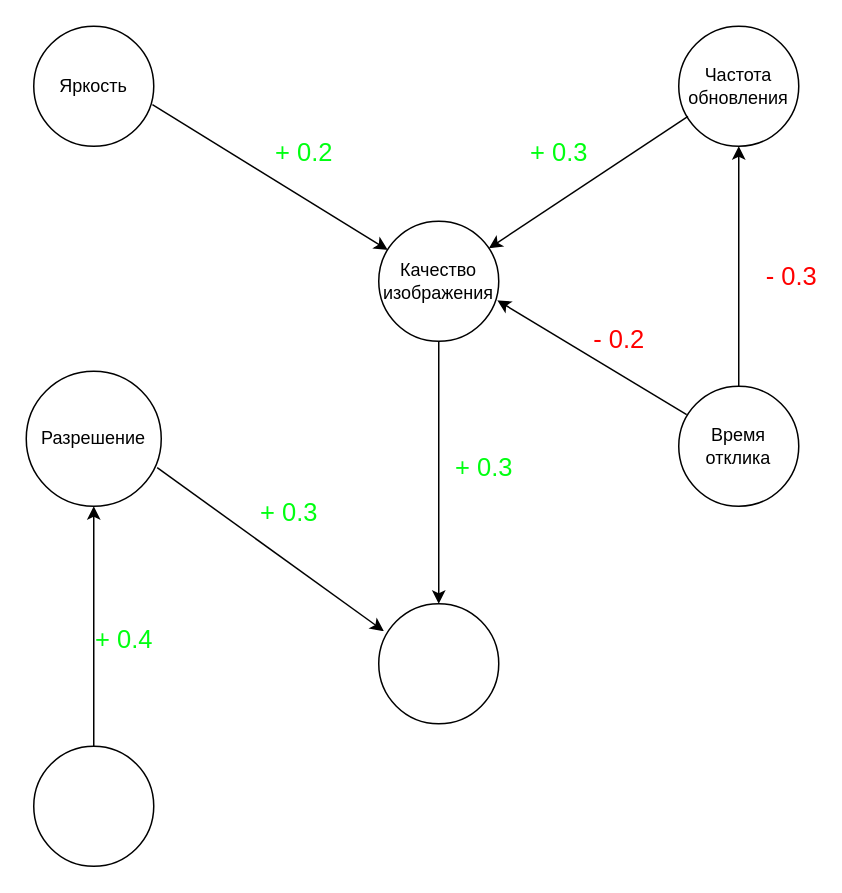
This 842x893 diagram has some shape labels left out. The shapes that lost their labels are listed below. From the top down, each one's box as (x1, y1, x2, y2) in pixels, then its label:
(377, 602, 499, 724): Стоимость
(32, 745, 154, 866): Диагональ
